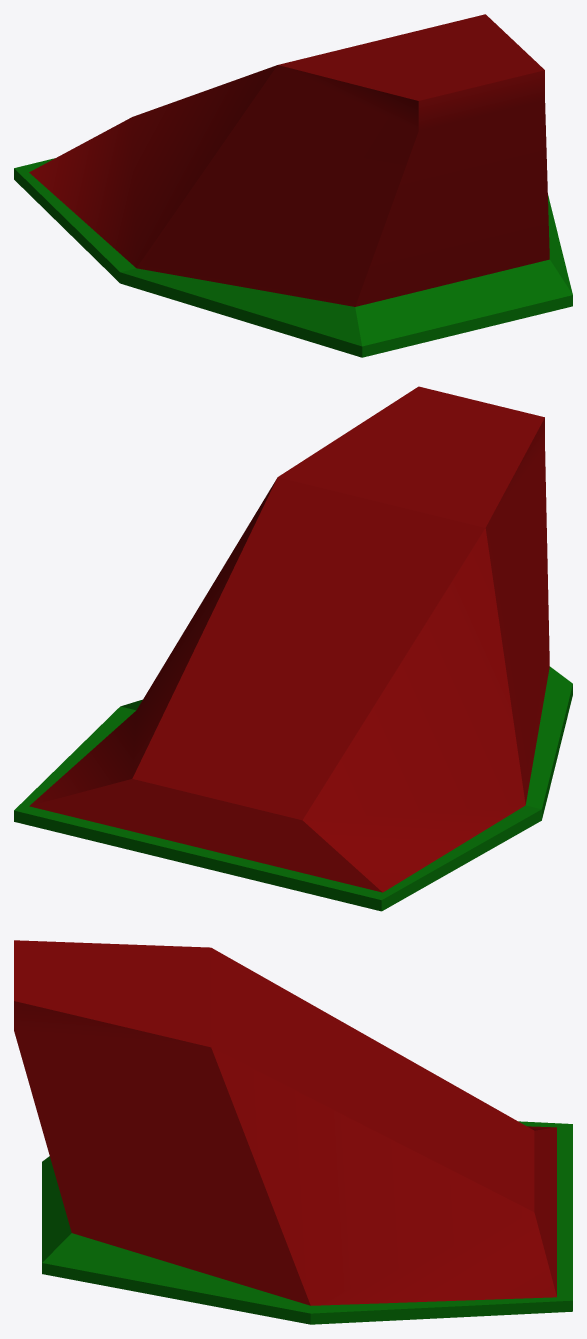
The model's file is TankHeadMount.fbx.
3 views of the same model, one above another, from view 1: azimuth 30°, elevation 25°; view 2: azimuth 150°, elevation 25°; view 3: azimuth 270°, elevation 25° (orthographic).
Parts seen in each view (by area): view 1: TankGunMount; view 2: TankGunMount; view 3: TankGunMount.
Part boxes in pixels (bbox=[...]): TankGunMount: bbox=[14, 14, 572, 357]; TankGunMount: bbox=[14, 386, 572, 911]; TankGunMount: bbox=[14, 940, 572, 1324].
Size of the model in its own units: 0.742 by 0.432 by 0.8656.
